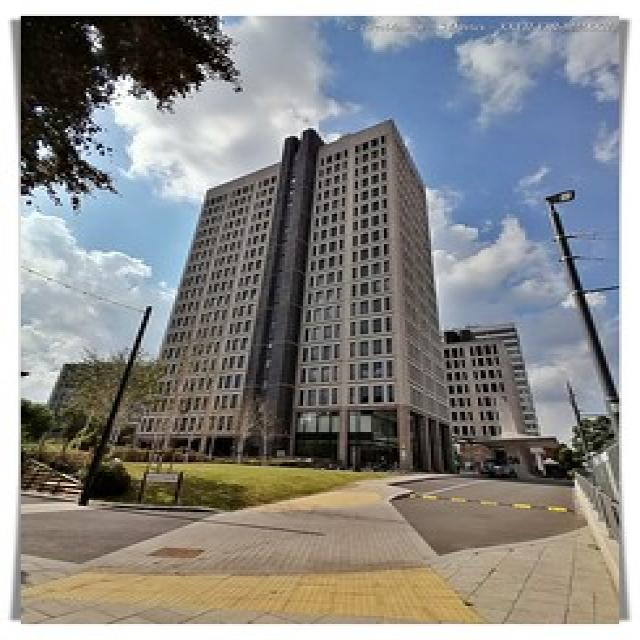Normal_building: (114, 117, 464, 483)
